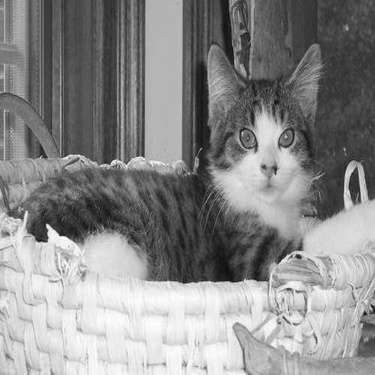cat: (10, 40, 325, 284)
